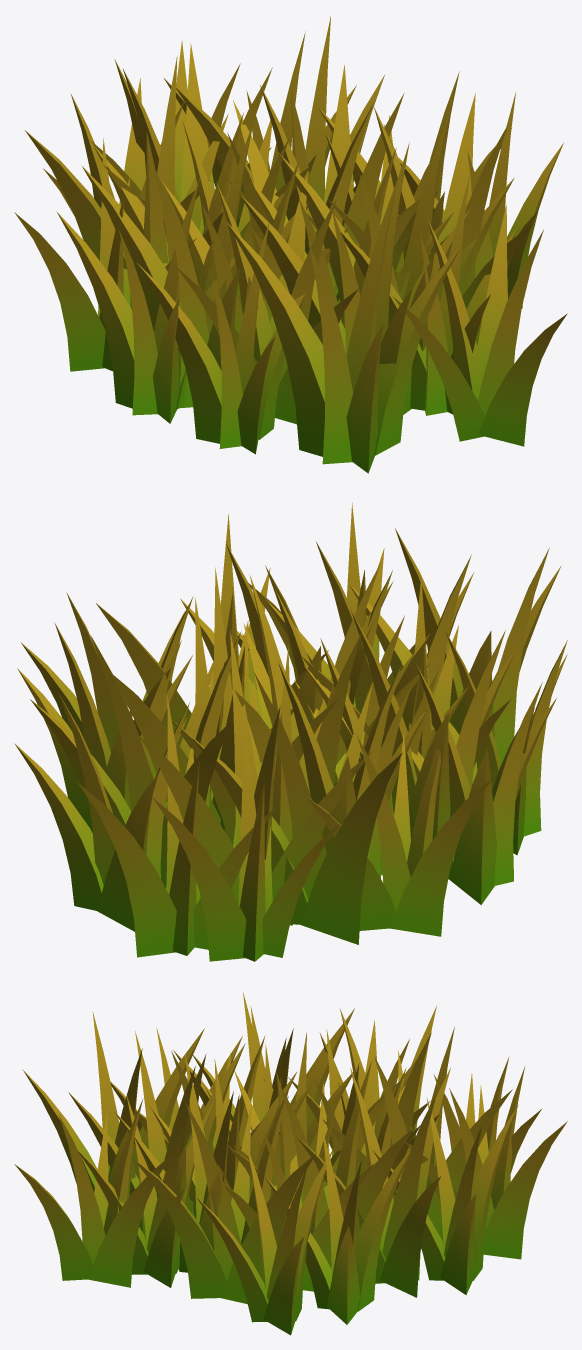
The model's file is Grass07.fbx.
3 views of the same model, one above another, from view 1: azimuth 30°, elevation 25°; view 2: azimuth 150°, elevation 25°; view 3: azimuth 270°, elevation 25° (orthographic). The views are drawn at different scales.
Visible parts, largest first — view 1: LOD0; view 2: LOD0; view 3: LOD0.
Boxes of the visible parts, x1,y1,x2,y2 form: LOD0: [14, 16, 567, 473]; LOD0: [14, 502, 567, 961]; LOD0: [14, 992, 567, 1335].
Size of what is drawn, in the model's own units: 198 by 232 by 96.06.
